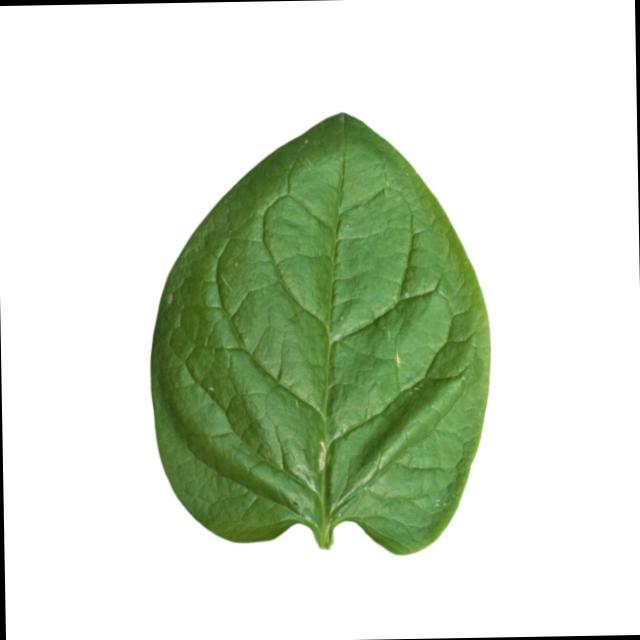Medicinal-Basale: (145, 105, 494, 561)
